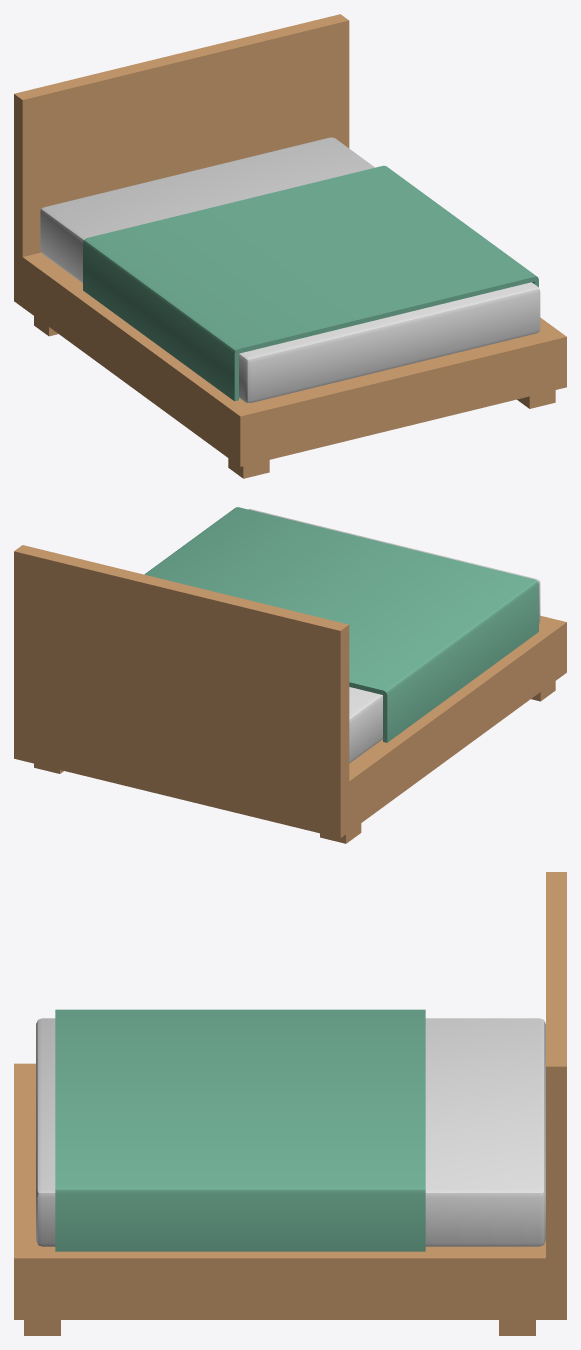
Rendered from sm_Bed.fbx.
3 renders of one model, top to bottom at view 1: azimuth 30°, elevation 25°; view 2: azimuth 150°, elevation 25°; view 3: azimuth 270°, elevation 25°, orthographic. The views are drawn at different scales.
Parts seen in each view (by area): view 1: Cube; view 2: Cube; view 3: Cube.
Part boxes in pixels (<box>): Cube: <box>14,14,566,478</box>; Cube: <box>14,507,566,843</box>; Cube: <box>14,872,566,1335</box>.
Bounding box in the file's own units: 183 × 120 × 220.
